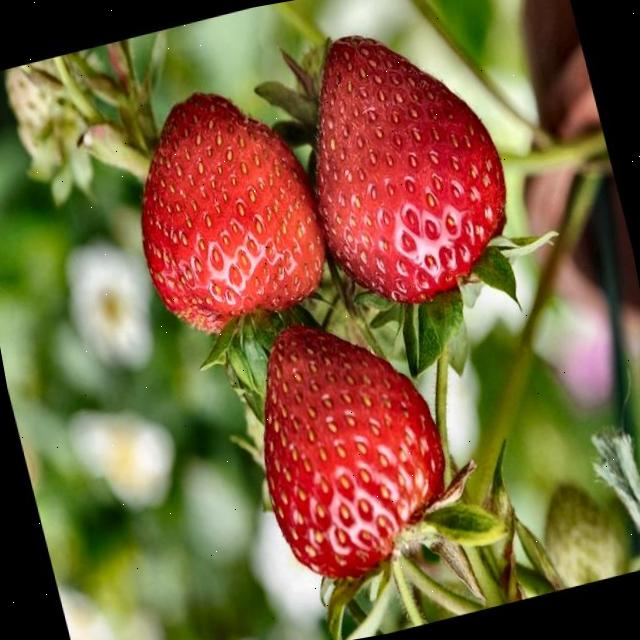strawberry: (316, 36, 505, 301), (263, 326, 444, 578), (142, 92, 325, 331)
